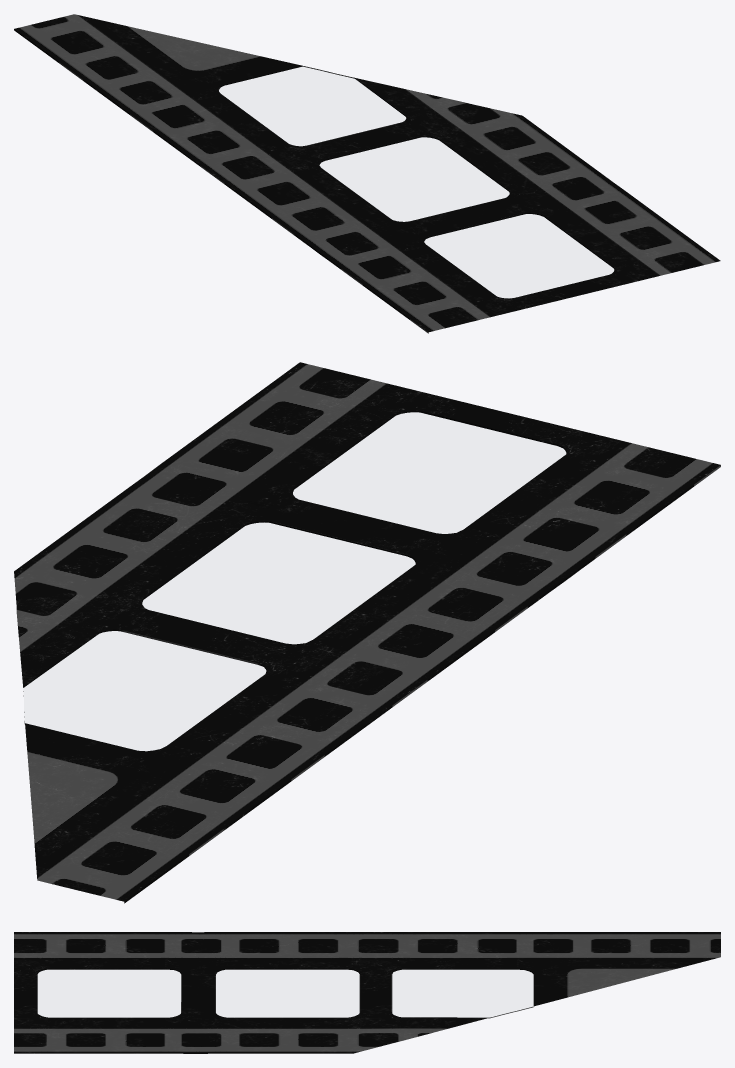
File: SueloPelicula.fbx
The picture shows the model from 3 angles, top to bottom: view 1: azimuth 30°, elevation 25°; view 2: azimuth 150°, elevation 25°; view 3: azimuth 270°, elevation 25°; orthographic projection. The views are drawn at different scales.
Parts seen in each view (by area): view 1: floor_film; view 2: floor_film; view 3: floor_film.
Boxes of the visible parts, <box> form: floor_film: <box>14,14,720,333</box>; floor_film: <box>14,362,720,903</box>; floor_film: <box>14,932,720,1053</box>.
Size of the model in its own units: 5.57 by 0.0283 by 13.68.
Materials: 2 (1 with a texture image).
